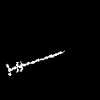treble_crochet: (7, 52, 61, 75)
